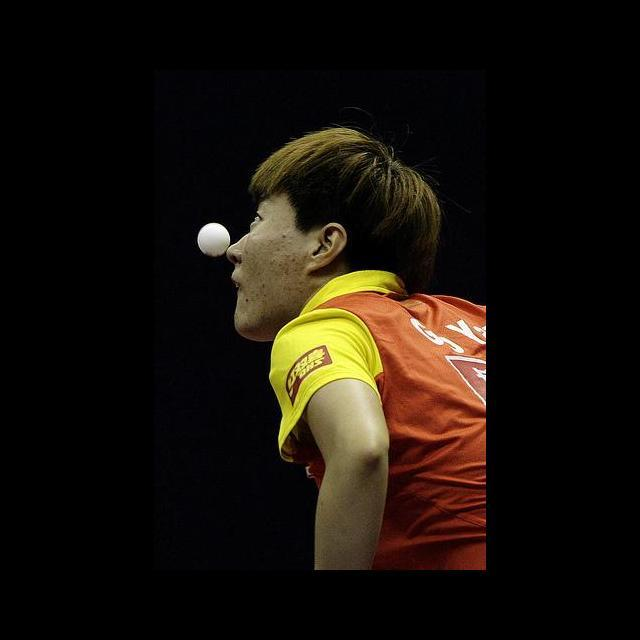ping-pong-ball: (197, 222, 231, 258)
